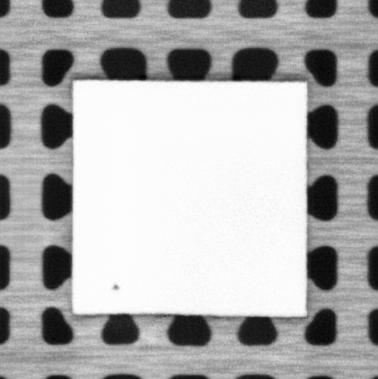DIE_INK: (111, 281, 120, 290)
